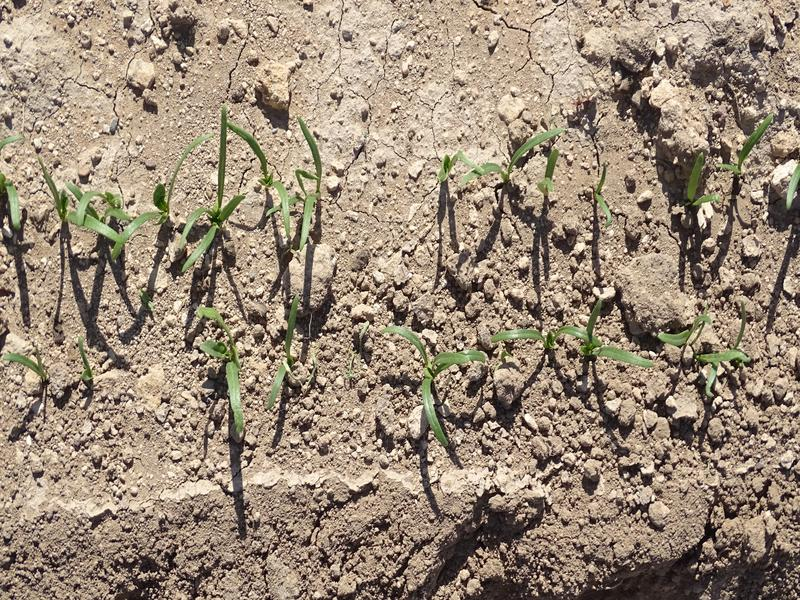Espinaca: (31, 117, 331, 258), (407, 300, 649, 446), (440, 126, 568, 198), (666, 309, 747, 397), (197, 299, 248, 437), (263, 294, 304, 405), (721, 117, 772, 177), (687, 151, 716, 206), (6, 344, 45, 379)
